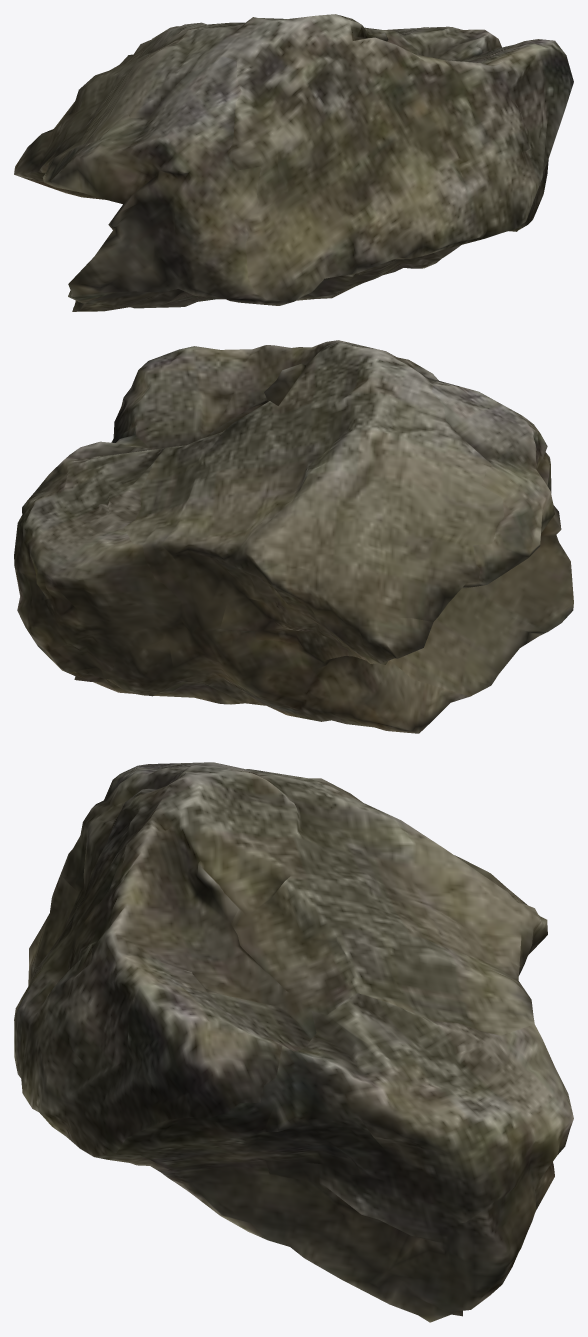
Rendered from rock11.glb.
3 views of the same model, one above another, from view 1: azimuth 30°, elevation 25°; view 2: azimuth 150°, elevation 25°; view 3: azimuth 270°, elevation 25° (orthographic). The views are drawn at different scales.
Visible parts, largest first — view 1: rock_moss_set_02_rock11; view 2: rock_moss_set_02_rock11; view 3: rock_moss_set_02_rock11.
Boxes of the visible parts, x1,y1,x2,y2 form: rock_moss_set_02_rock11: (14,14,573,311); rock_moss_set_02_rock11: (14,340,573,733); rock_moss_set_02_rock11: (14,762,573,1322).
Size of the model in its own units: 2.2 by 1.48 by 1.72.
1 material, 1 textured.
